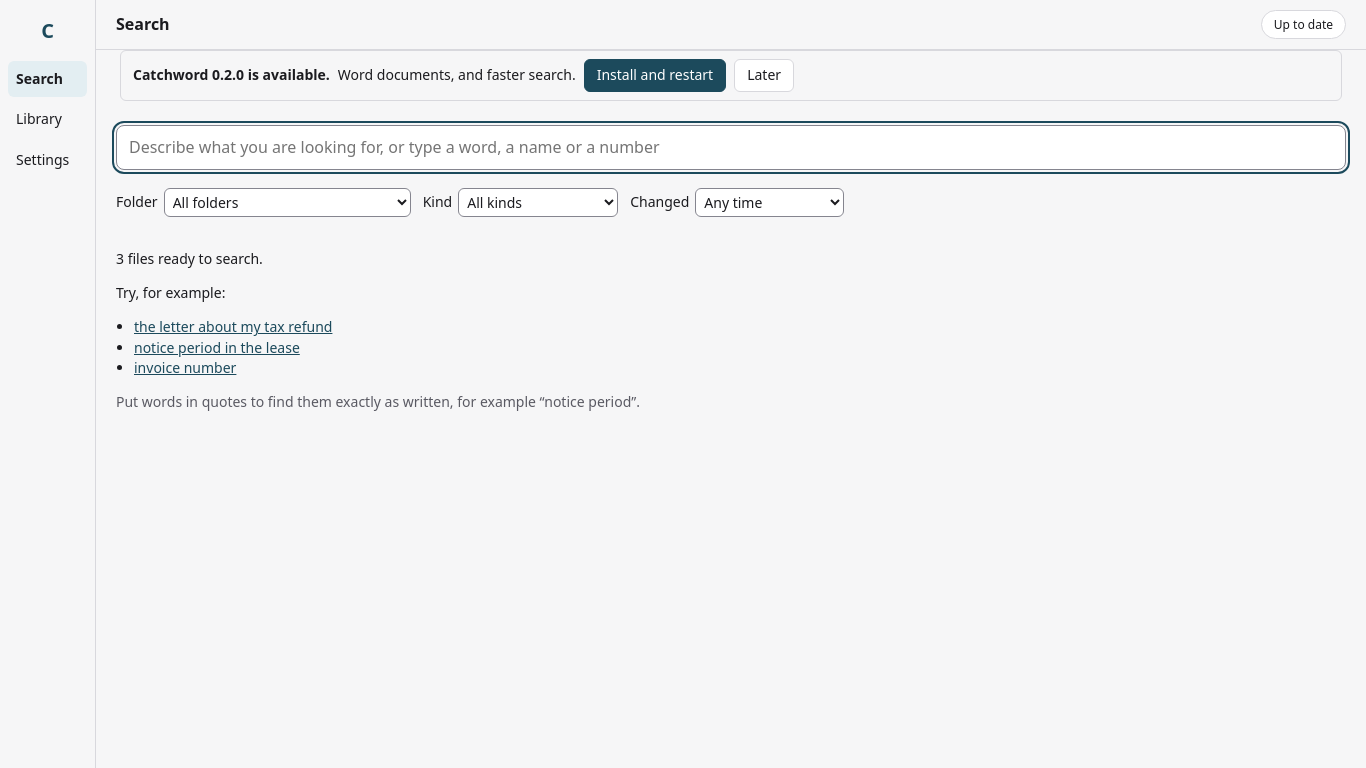
Scenario: the window › puts a newer version off with Later
The width and height of the screenshot is (1366, 768).
Click the button "Later": (764, 76) 734,59 -> 794,92
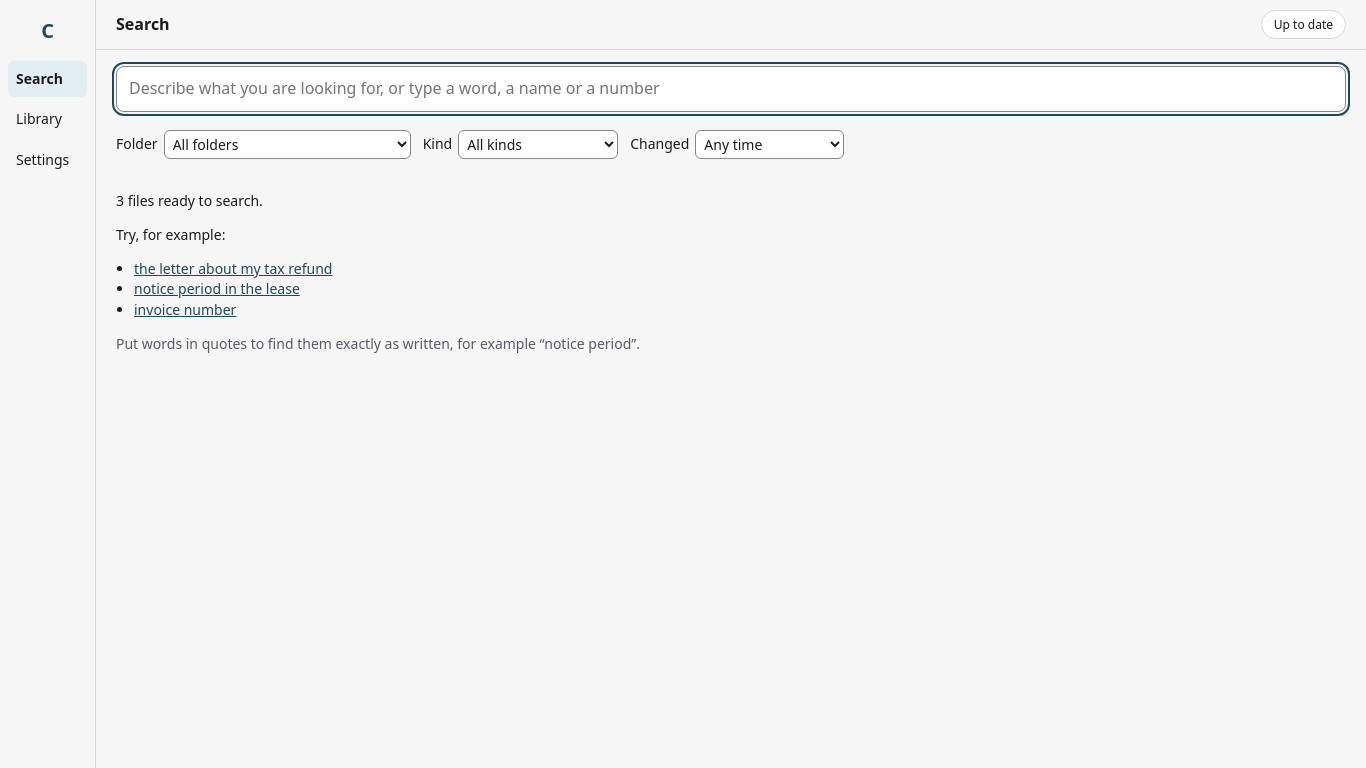
Expected: the text "Catchword 0.2.0 is available." is gone
